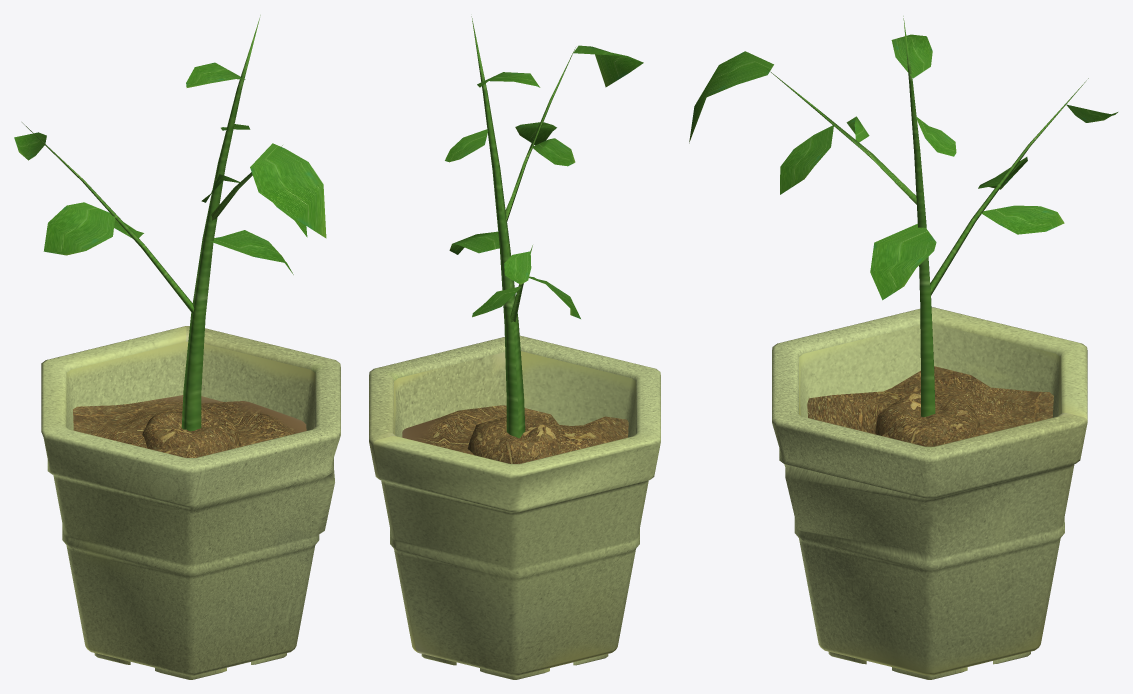
File: kongkongy.fbx
3 renders of one model, left to right at view 1: azimuth 30°, elevation 25°; view 2: azimuth 150°, elevation 25°; view 3: azimuth 270°, elevation 25°, orthographic. The views are drawn at different scales.
Parts seen in each view (by area): view 1: PlantPot.obja8758438-f07a-4164-aadf-cf58937b1083; view 2: PlantPot.obja8758438-f07a-4164-aadf-cf58937b1083; view 3: PlantPot.obja8758438-f07a-4164-aadf-cf58937b1083.
Part boxes in pixels (box(x1,y1,x2,y2)): PlantPot.obja8758438-f07a-4164-aadf-cf58937b1083: box(14, 15, 340, 679); PlantPot.obja8758438-f07a-4164-aadf-cf58937b1083: box(369, 16, 660, 679); PlantPot.obja8758438-f07a-4164-aadf-cf58937b1083: box(689, 16, 1117, 679).
Bounding box in the file's own units: 1326 × 2737 × 1589.
2 materials, 1 textured.
